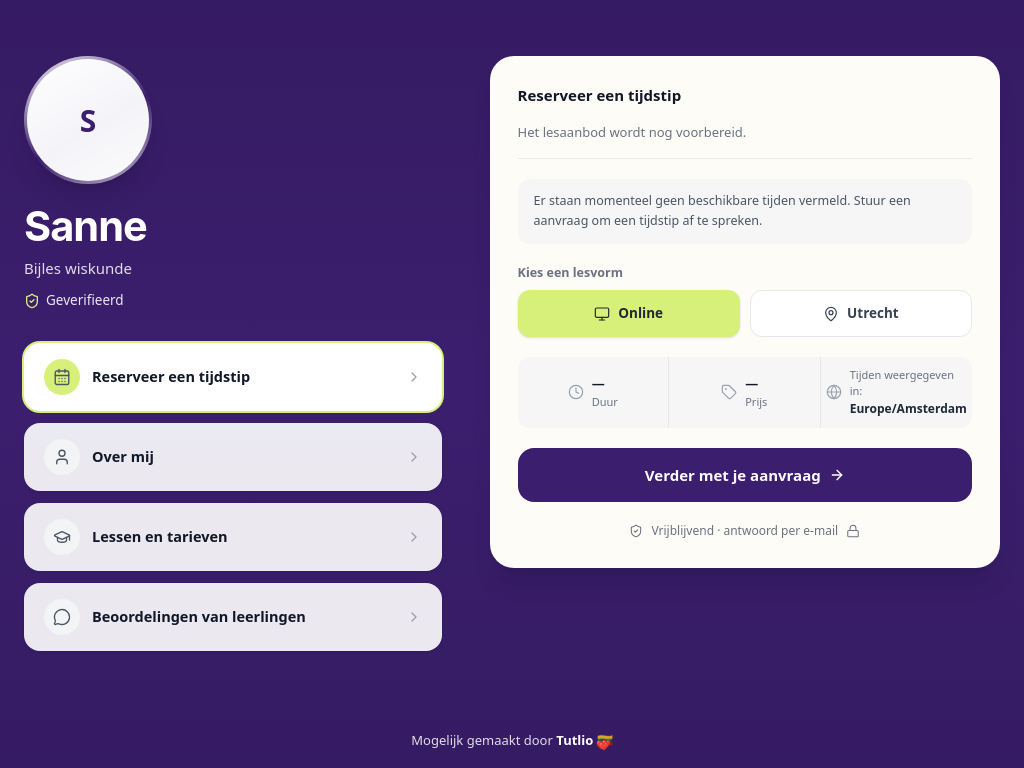
Test: Dutch public enquiry customer journey › renders a Dutch recovery message for HTTP 429 and keeps the contact details
This screenshot has width=1024, height=768.
Click the button "Verder met je aanvraag": point(745, 475) [518, 448, 972, 502]
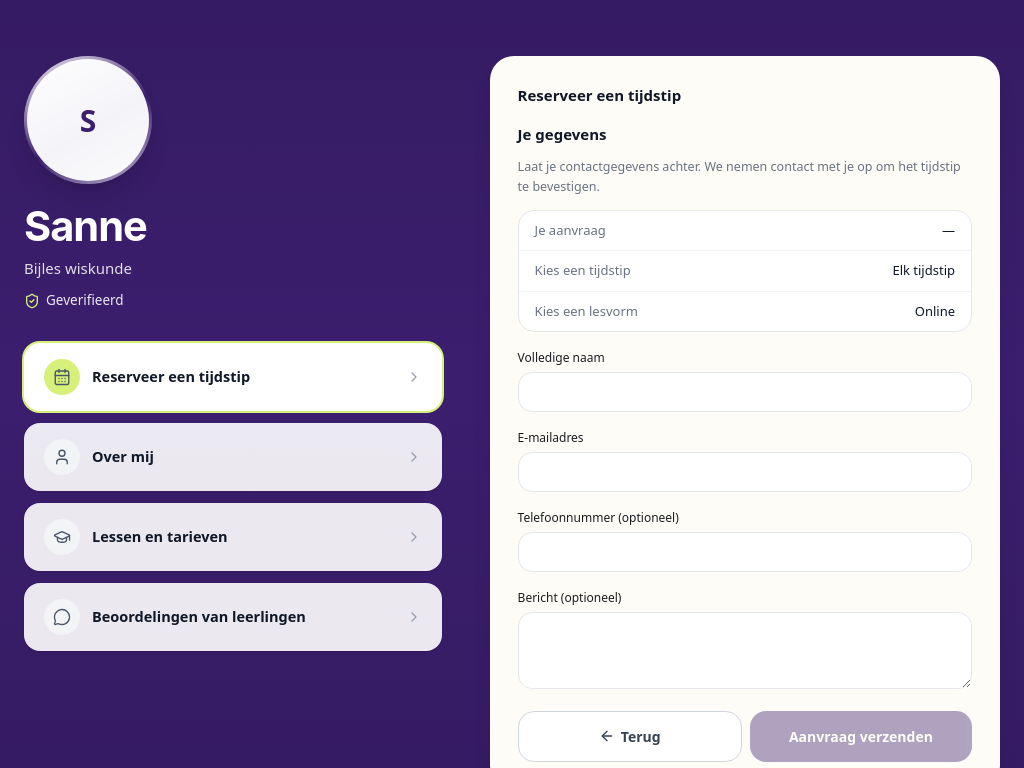
Check: the text "Je gegevens" is shown, box [518, 124, 606, 144]
In the field labelled "Volledige naam": point(745, 392) [518, 372, 972, 412], type "Noor Voorbeeld"
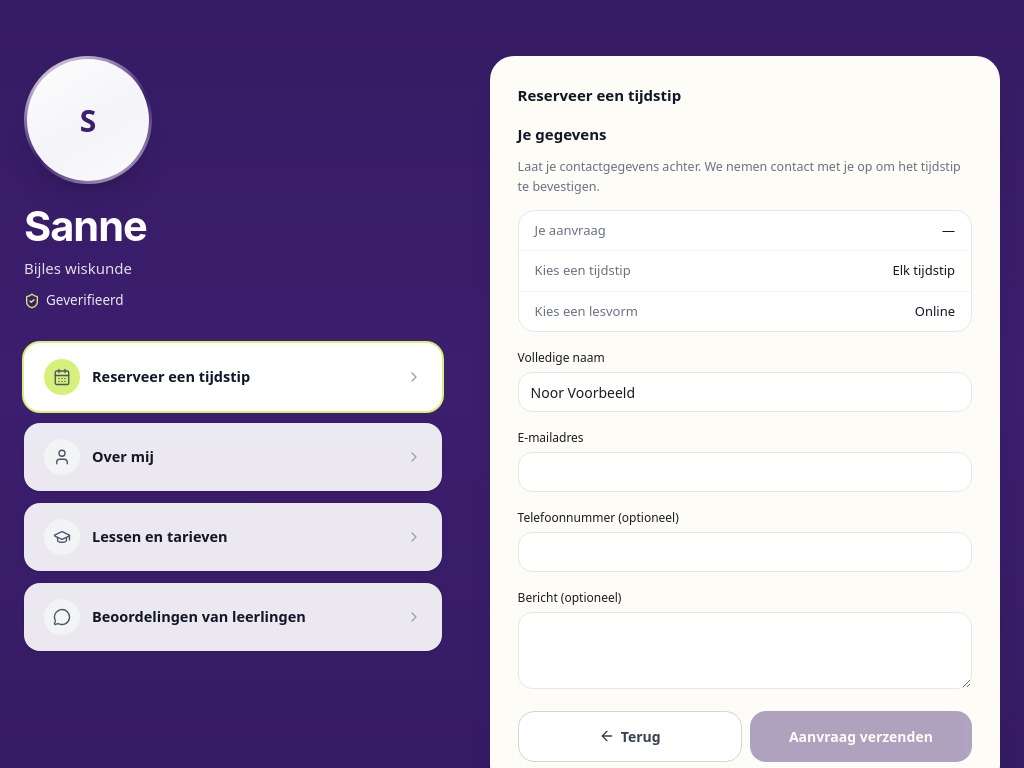
In the field labelled "E-mailadres": point(745, 472) [518, 452, 972, 492], type "noor@example.com"
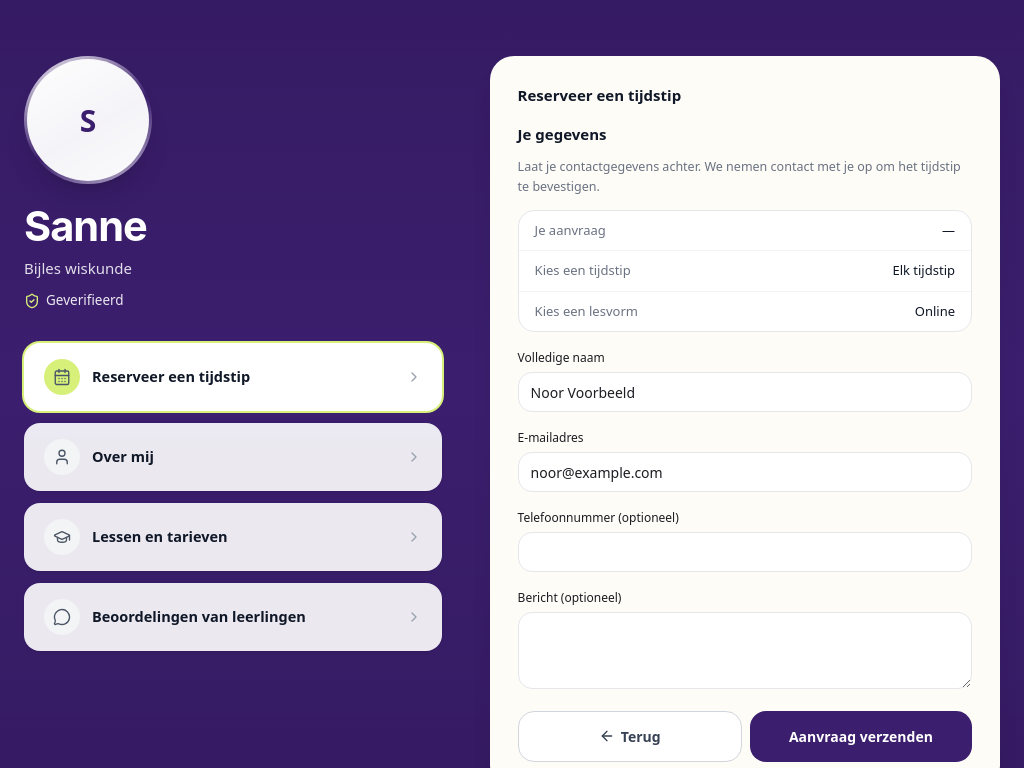
In the field labelled "Telefoonnummer (optioneel)": point(745, 552) [518, 532, 972, 572], type "+31 6 12345678"
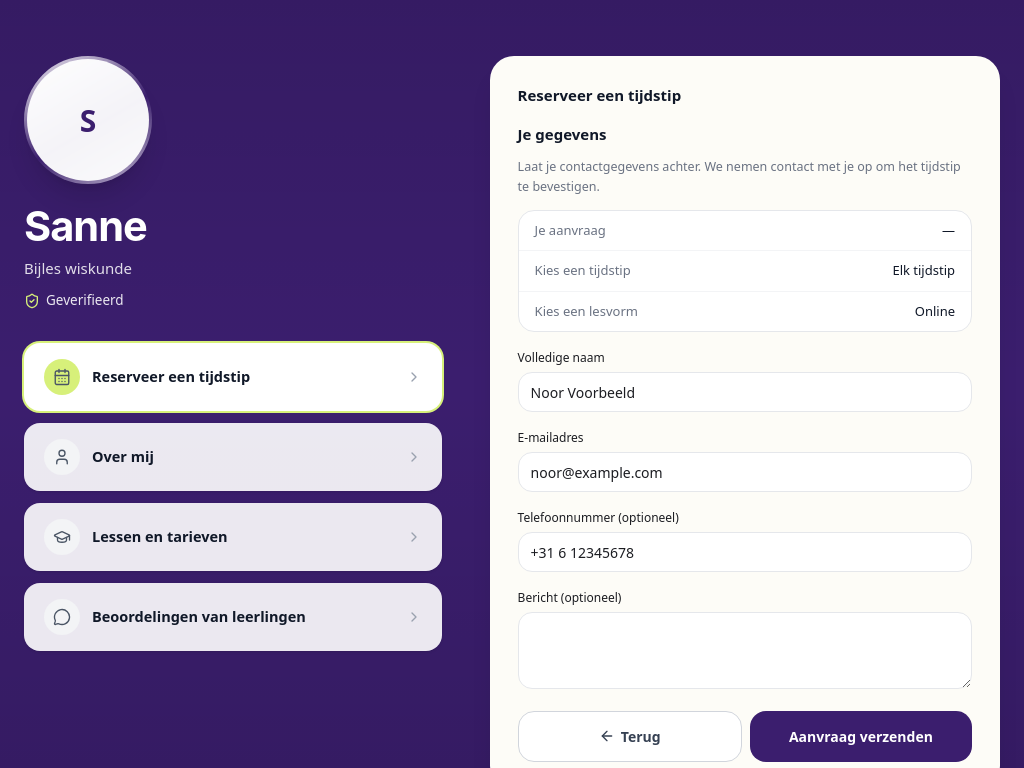
Click the button "Aanvraag verzenden": point(861, 736) [750, 711, 972, 762]
(page scrolled)
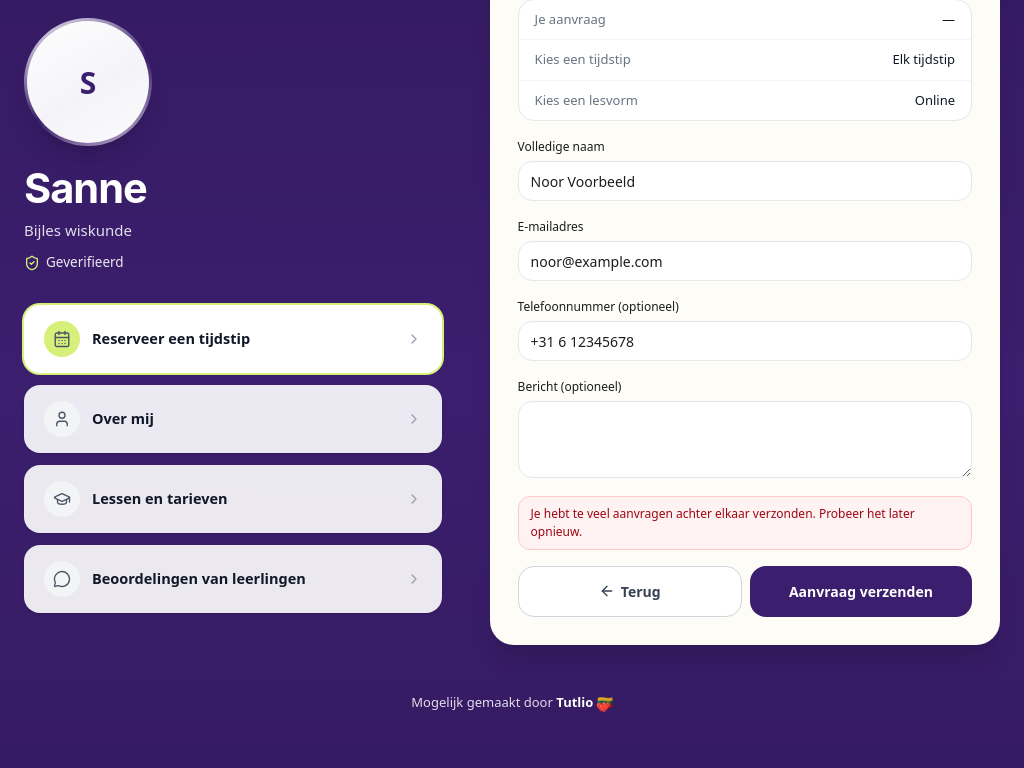
Check: the button "Aanvraag verzenden" is enabled, box [750, 566, 972, 617]
Check: the text "Je hebt te veel aanvragen achter elkaar verzonden. Probeer het later opnieuw." is shown, box [518, 496, 972, 550]
